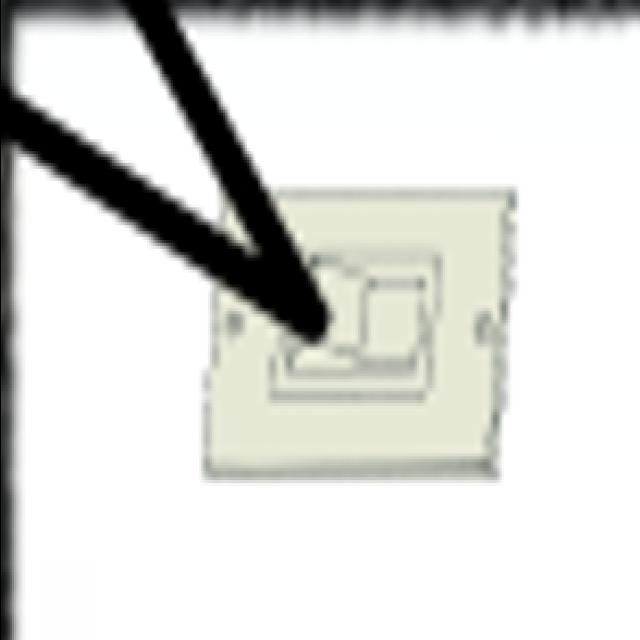switch: (191, 164, 527, 508)
